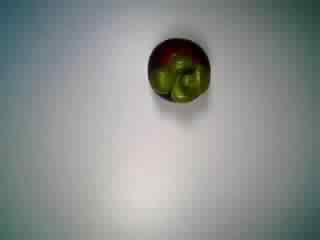mangosteen: (136, 32, 213, 106)
